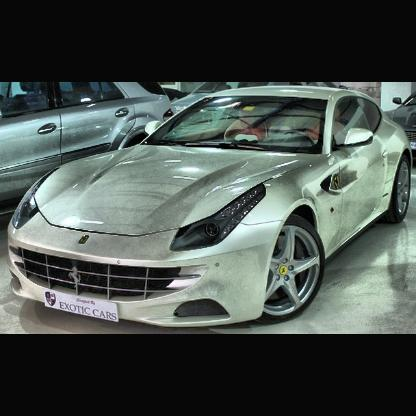Ferrari FF Coupe 2012: (6, 82, 416, 332)
